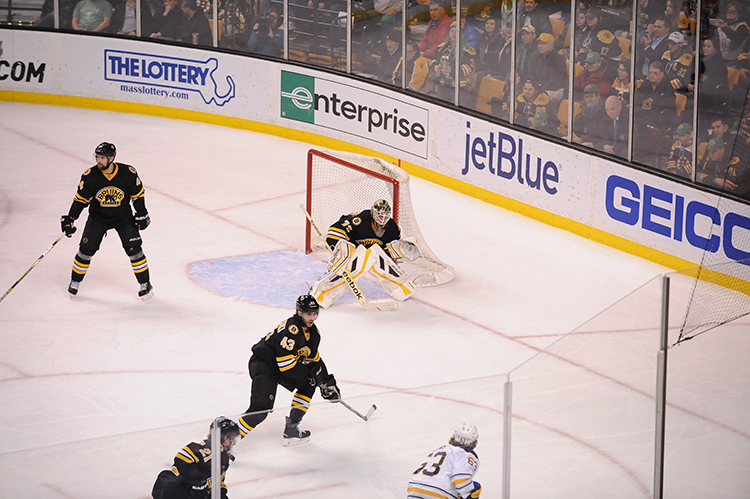Geico: (600, 169, 750, 266)
